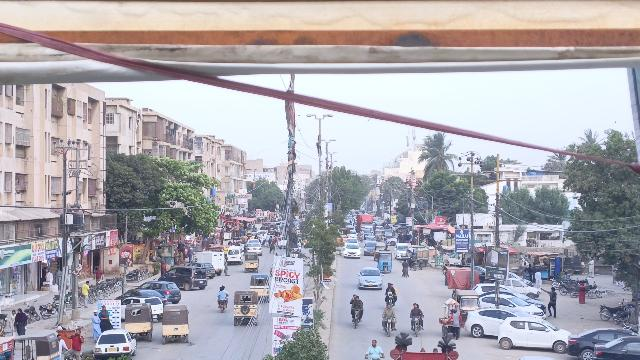Bike: (349, 307, 364, 329), (409, 315, 424, 337), (381, 316, 396, 337), (385, 290, 398, 308), (218, 296, 228, 315)
Car: (496, 315, 570, 353), (566, 326, 629, 358), (464, 307, 520, 337), (91, 329, 139, 360), (159, 266, 209, 290), (593, 336, 639, 360), (356, 266, 385, 291)
Cart: (437, 298, 463, 340)
Person: (13, 307, 30, 339), (544, 285, 560, 318), (88, 308, 102, 339), (69, 329, 84, 357), (99, 304, 114, 329), (350, 292, 366, 313), (409, 300, 425, 320), (381, 303, 397, 318), (533, 268, 544, 288), (216, 285, 230, 300), (387, 282, 397, 295)
Rickshaw: (160, 304, 190, 346), (124, 303, 154, 340), (231, 290, 260, 327), (453, 290, 480, 325), (249, 274, 270, 302), (376, 249, 393, 275), (243, 251, 260, 274)
Truck: (196, 248, 226, 275)
